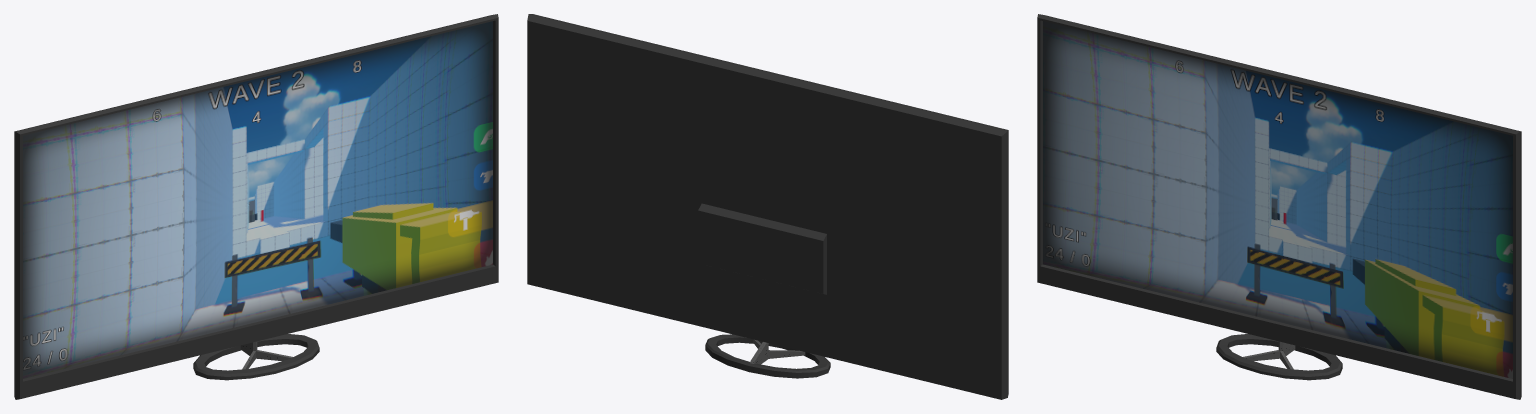
The picture shows the model from 3 angles, left to right: view 1: azimuth 30°, elevation 25°; view 2: azimuth 150°, elevation 25°; view 3: azimuth 330°, elevation 25°; orthographic projection.
Visible parts, largest first — view 1: TV_2; view 2: TV_2; view 3: TV_2.
Part boxes in pixels (x1,y1,x2,y2): TV_2: (14, 14, 498, 399); TV_2: (527, 14, 1008, 399); TV_2: (1037, 14, 1521, 399).
Bounding box in the file's own units: 1.32 × 0.7508 × 0.1783.
